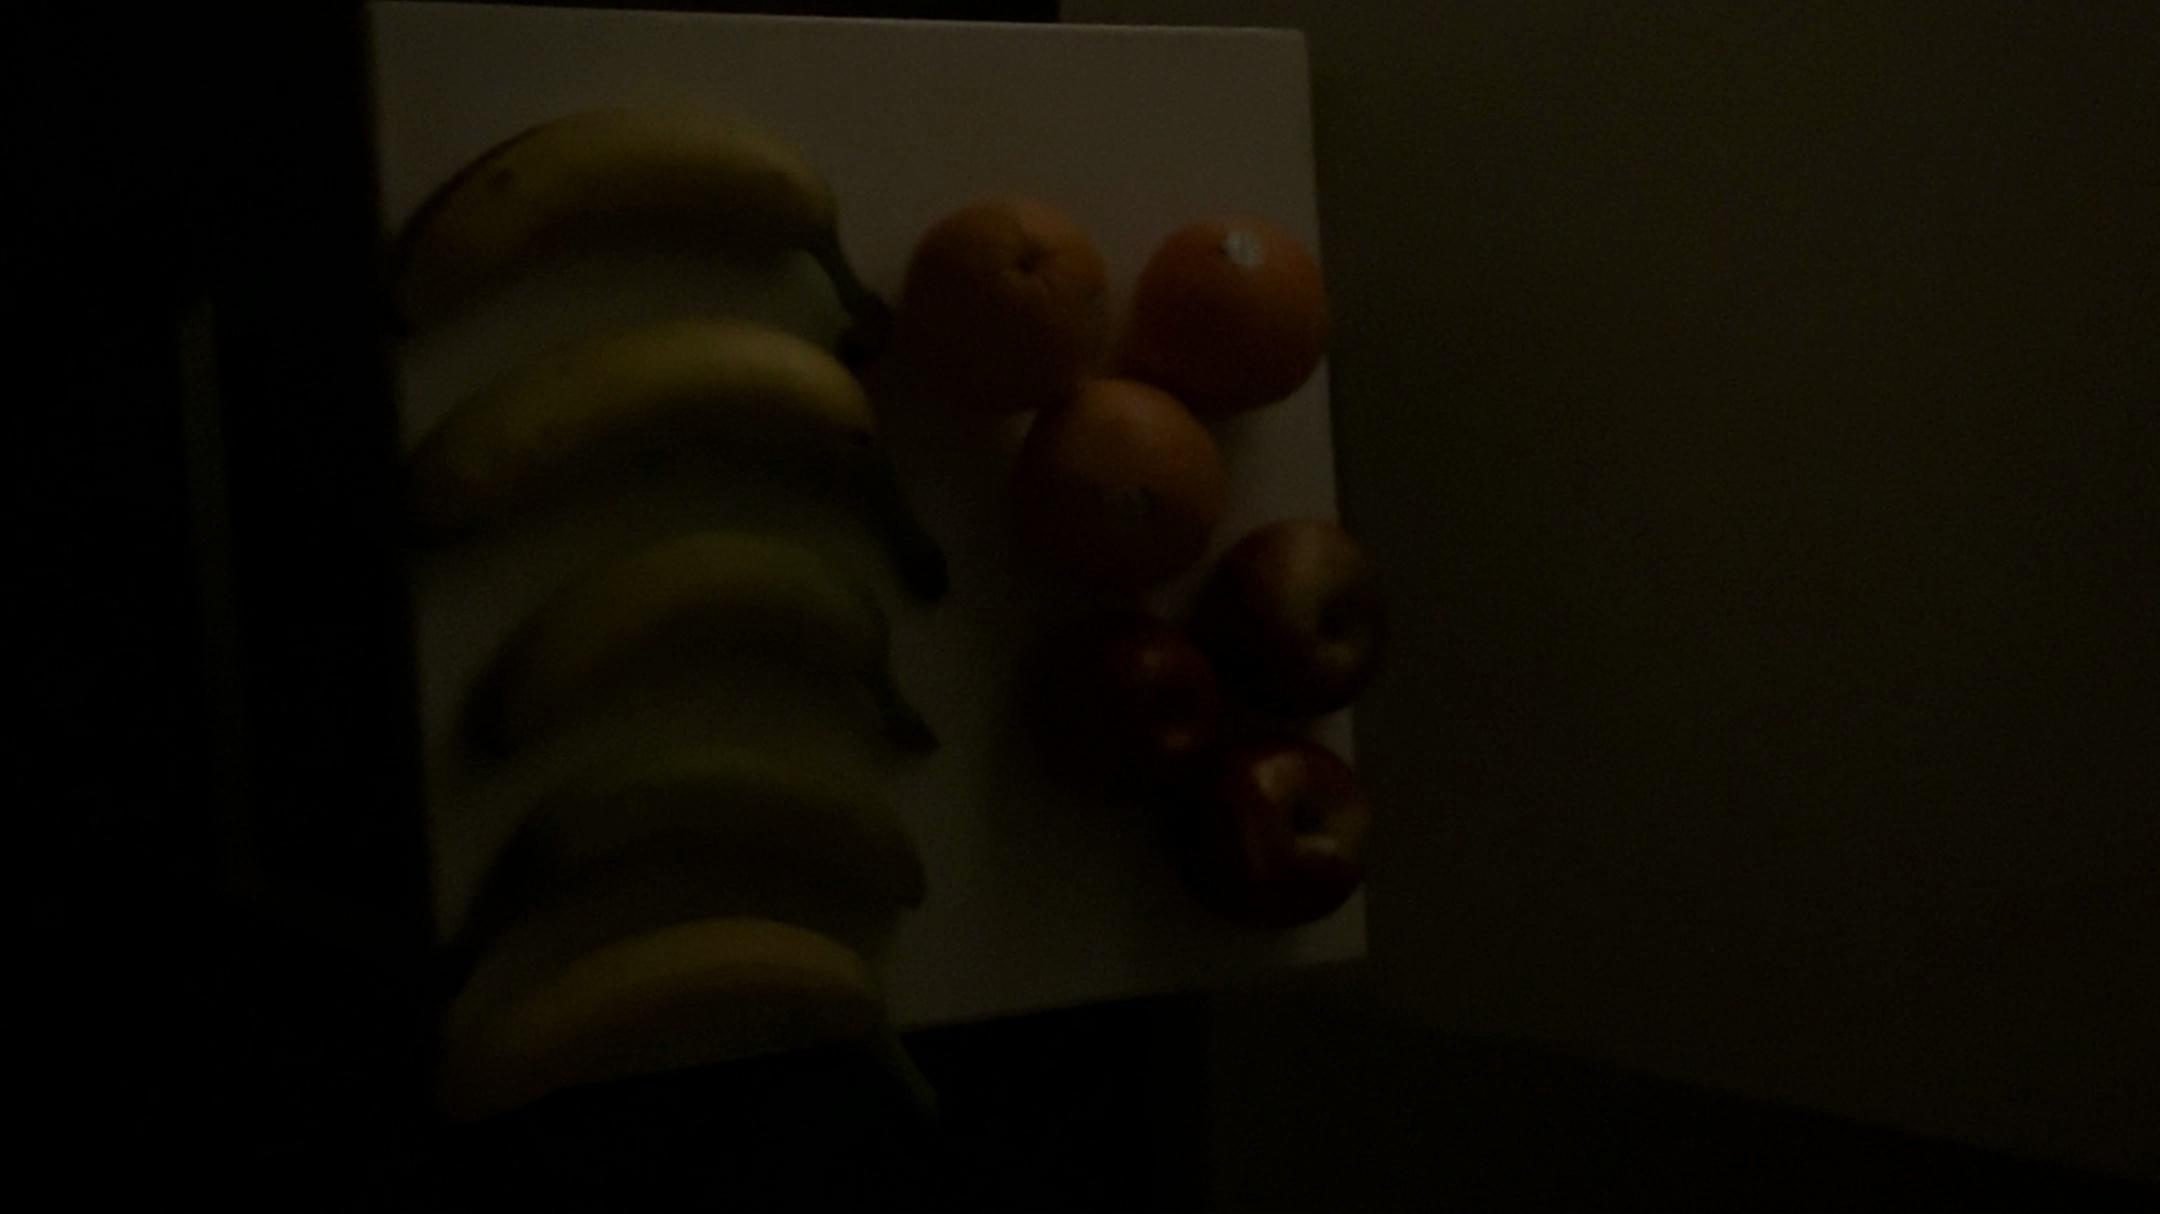apple: (1191, 721, 1392, 971), (1208, 499, 1411, 726), (1038, 629, 1228, 840)
banana: (375, 111, 900, 361), (427, 705, 942, 951), (418, 525, 935, 767), (411, 315, 915, 539), (450, 917, 932, 1150)
orange: (997, 371, 1233, 623), (1119, 203, 1357, 424), (895, 188, 1130, 408)
